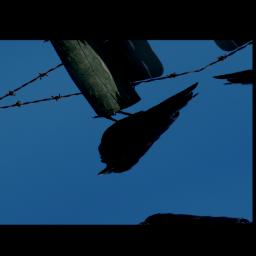Crow: (64, 79, 233, 181)
